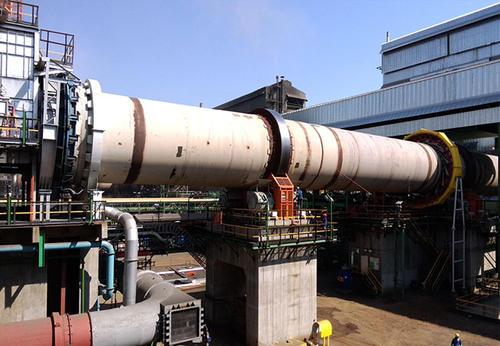oil: (317, 301, 364, 340)
